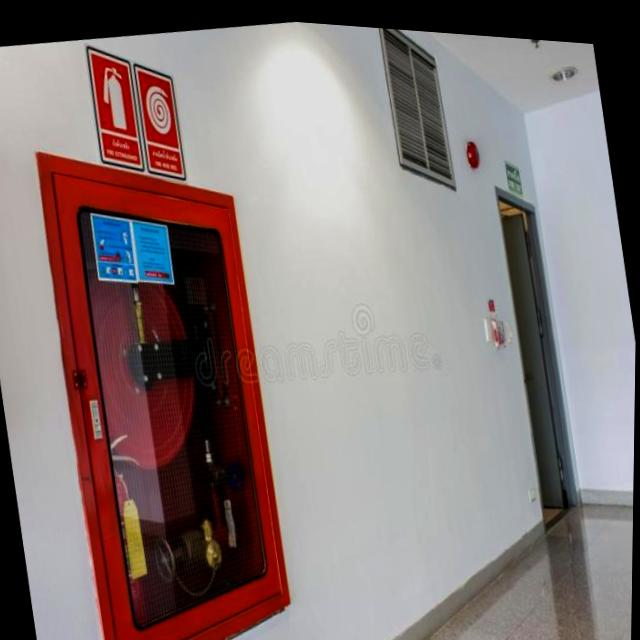FireExtinguisher: (80, 416, 175, 640)
